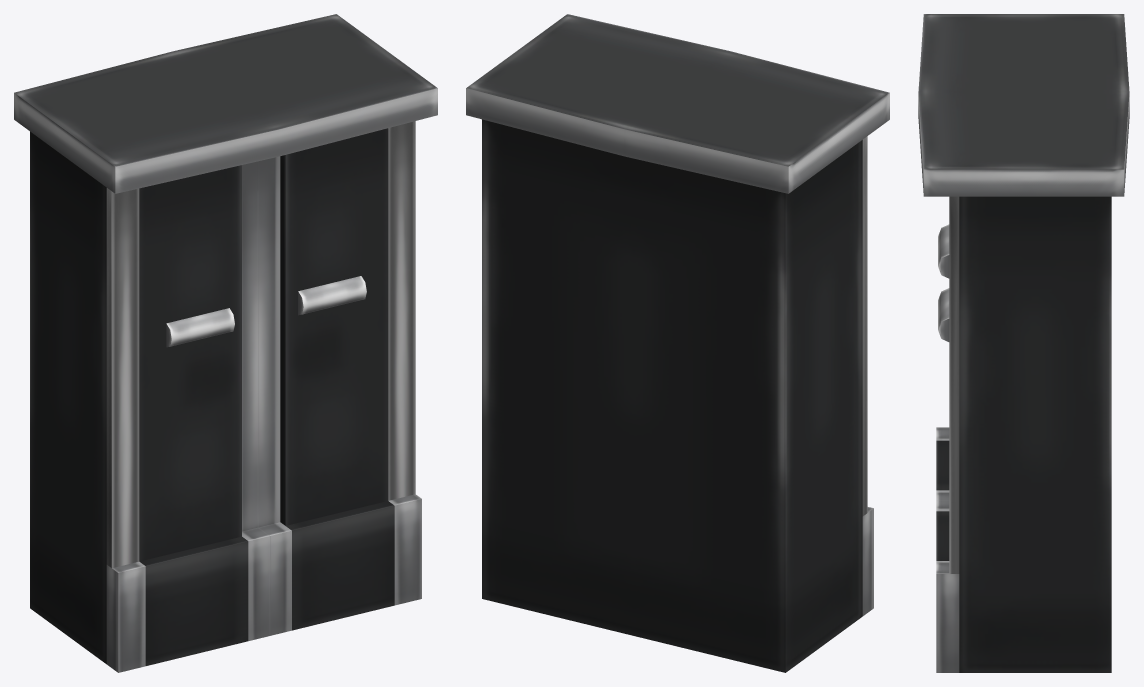
Rendered from MidcenturyCabinet_HD.fbx.
The picture shows the model from 3 angles, left to right: view 1: azimuth 30°, elevation 25°; view 2: azimuth 150°, elevation 25°; view 3: azimuth 270°, elevation 25°; orthographic projection.
Parts seen in each view (by area): view 1: MidcenturyCabinet; view 2: MidcenturyCabinet; view 3: MidcenturyCabinet.
Boxes of the visible parts, box(x1,y1,x2,y2) form: MidcenturyCabinet: box(14, 14, 437, 672); MidcenturyCabinet: box(466, 14, 889, 672); MidcenturyCabinet: box(918, 14, 1129, 672).
Bounding box in the file's own units: 0.9762 × 1.48 × 0.5592.
